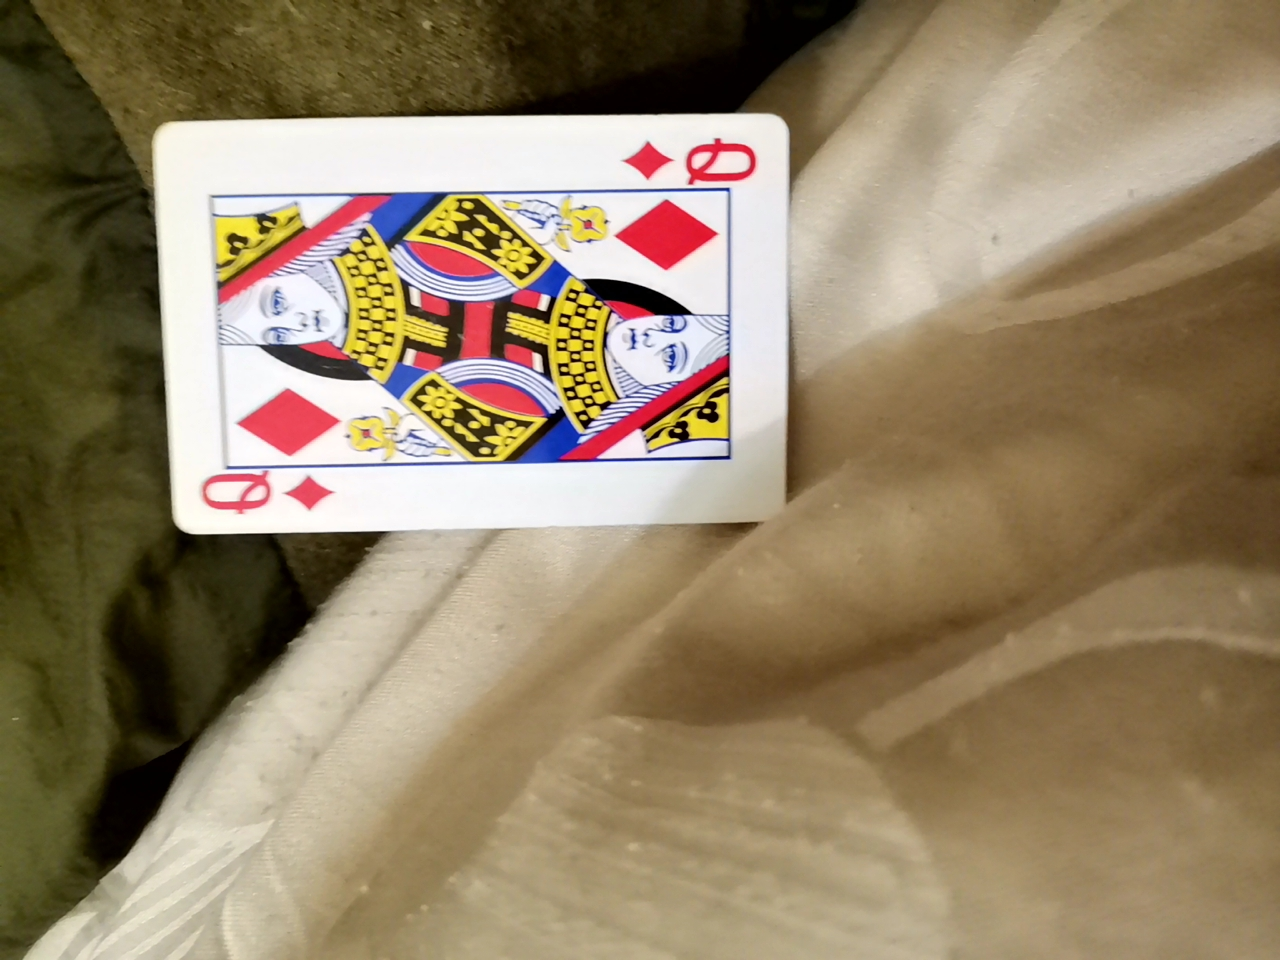fk q: (174, 198, 806, 647)
